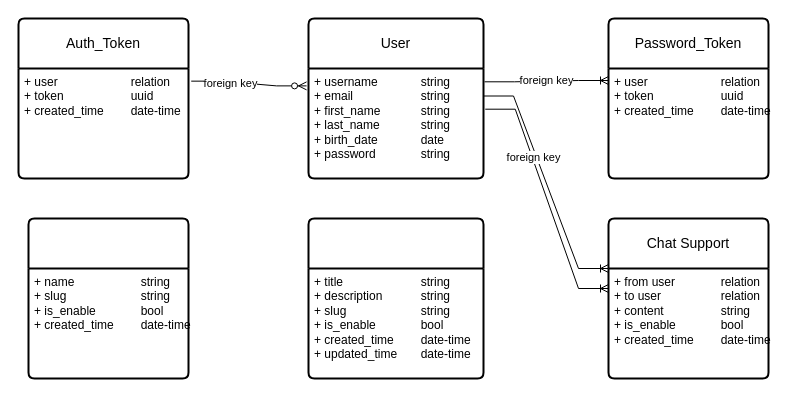
This 788x396 diagram has some shape labels left out. The shapes that lost their labels are listed below. From the top down, each one's box as (x1, y1, x2, y2) in pixels, then its label:
(27, 217, 189, 379): Category
(307, 217, 484, 379): Question
